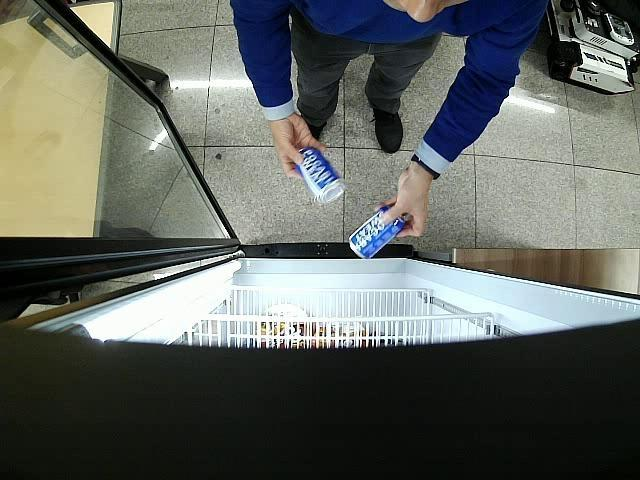13_pocariSweat: (296, 146, 346, 204), (350, 206, 404, 258)
